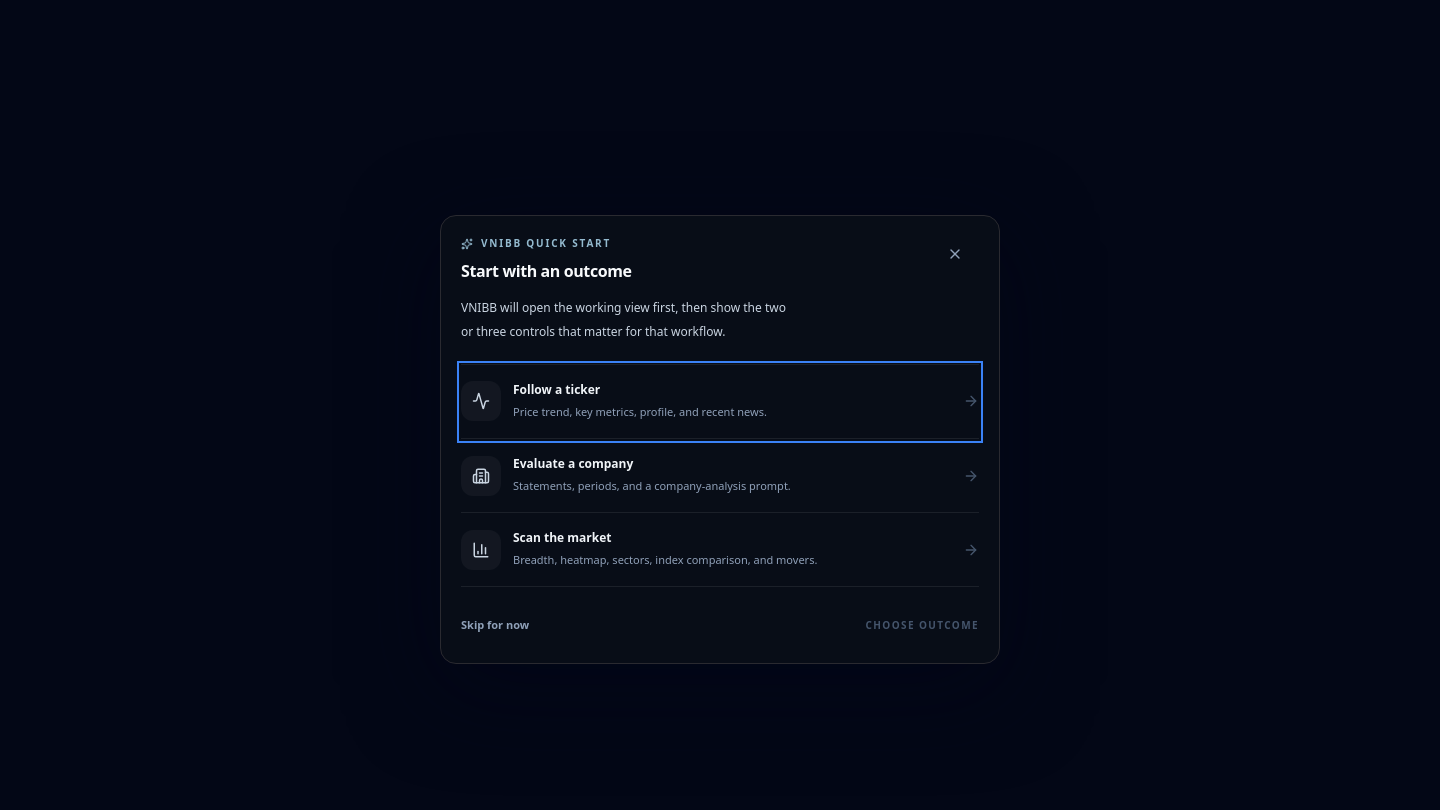
Test case: OnboardingWalkthrough › routes market scan without requesting a ticker
Click the button "Scan the market" at [720, 550], box [461,513,979,586]
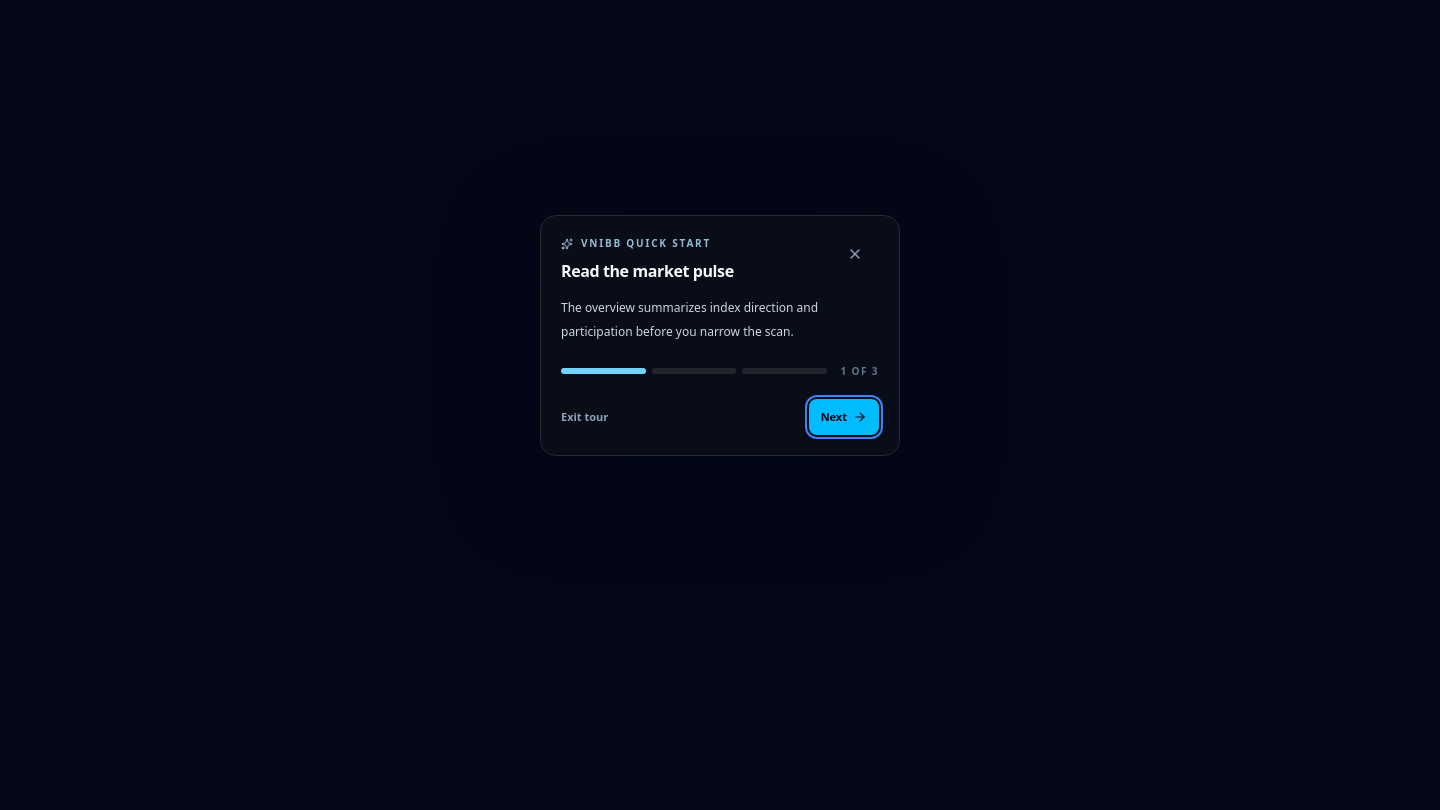
Now the heading "Read the market pulse" is shown, box [561,259,734,284]
